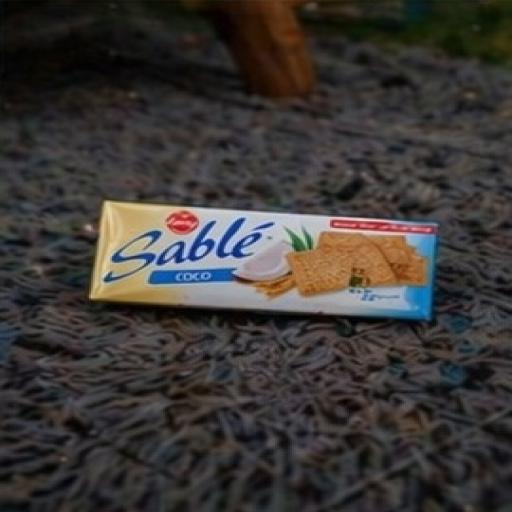sabl: (52, 140, 479, 363)
